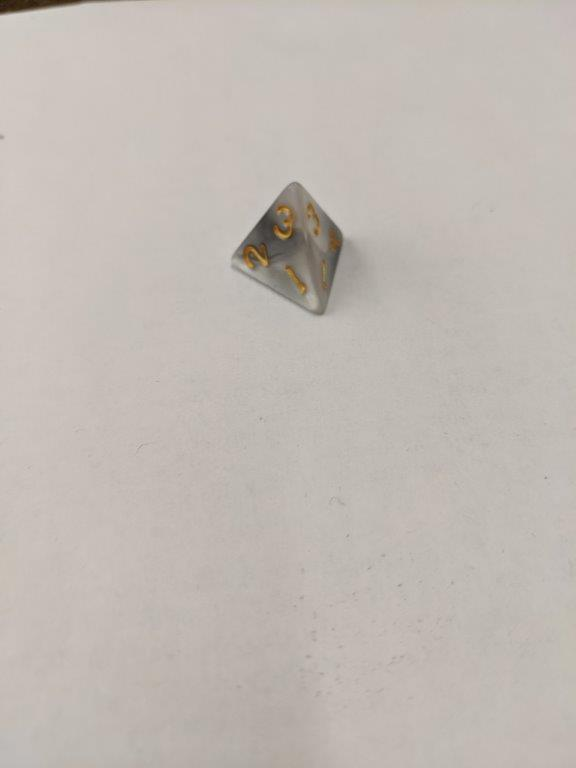d4-3: (219, 178, 351, 322)
